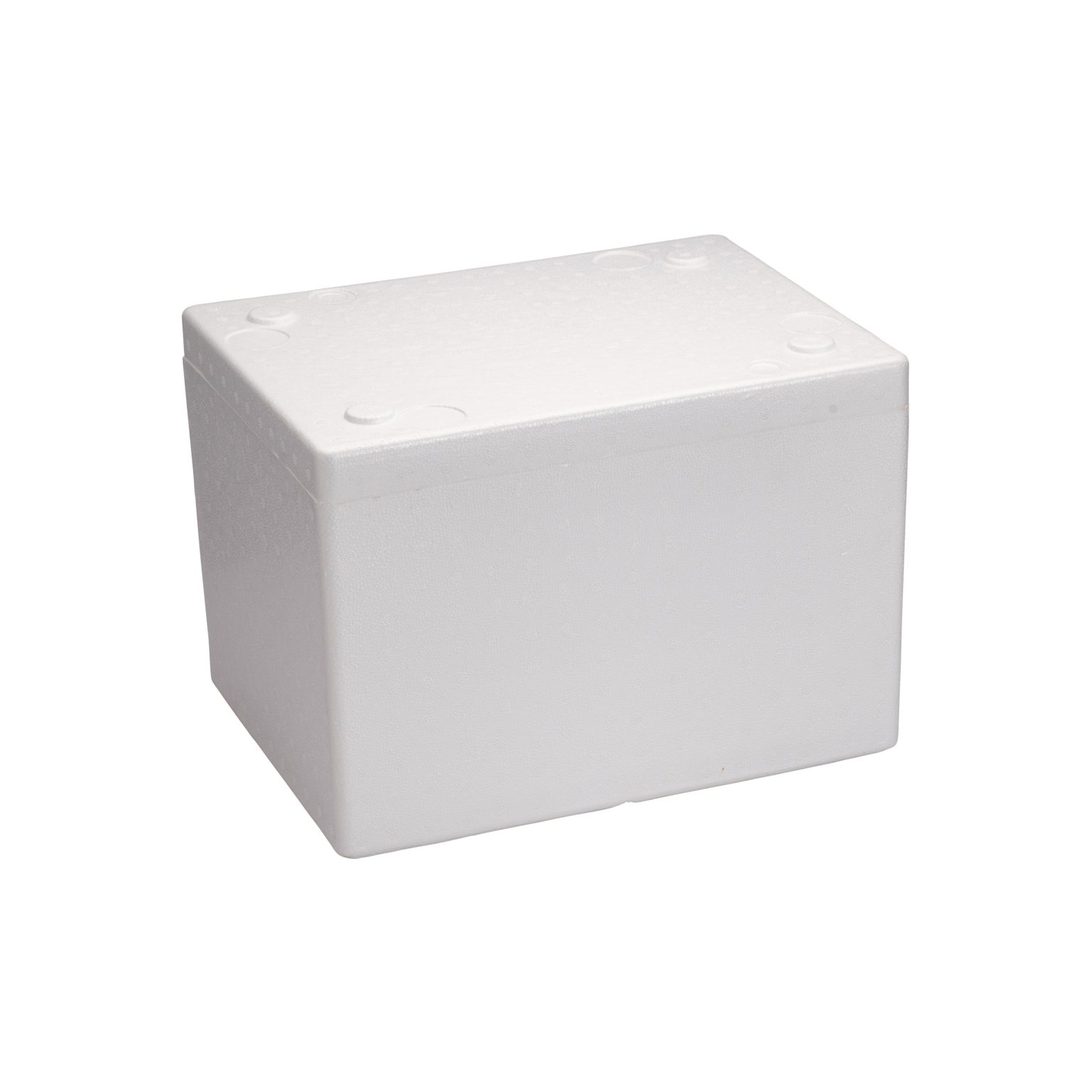泡沫箱: (183, 237, 909, 857)
